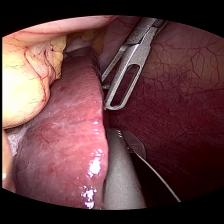Grasper: (95, 16, 167, 111)
Irrigator: (99, 125, 129, 152)
